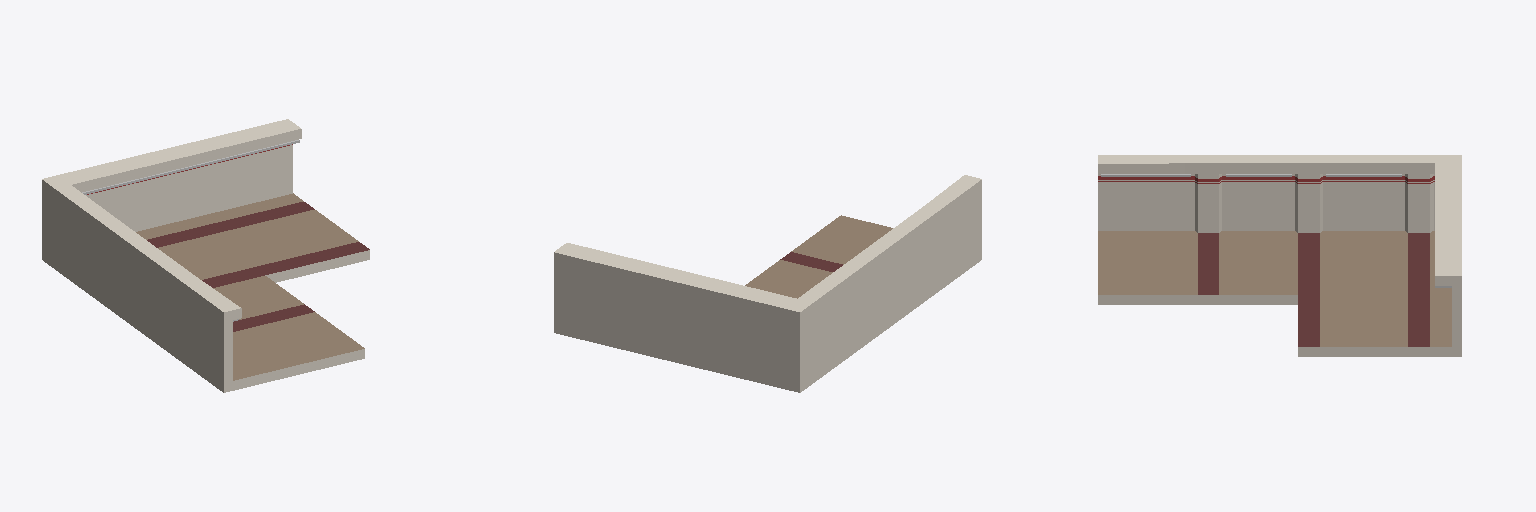
The model's file is wall.obj.
The picture shows the model from 3 angles: view 1: azimuth 30°, elevation 25°; view 2: azimuth 150°, elevation 25°; view 3: azimuth 270°, elevation 25°; orthographic projection.
Visible parts, largest first — view 1: Cube_Cube.001; view 2: Cube_Cube.001; view 3: Cube_Cube.001.
Part boxes in pixels (x1,y1,x2,y2): Cube_Cube.001: (42, 119, 369, 392); Cube_Cube.001: (554, 175, 981, 392); Cube_Cube.001: (1098, 155, 1461, 356).
Bounding box in the file's own units: 15.99 × 5 × 20.46.